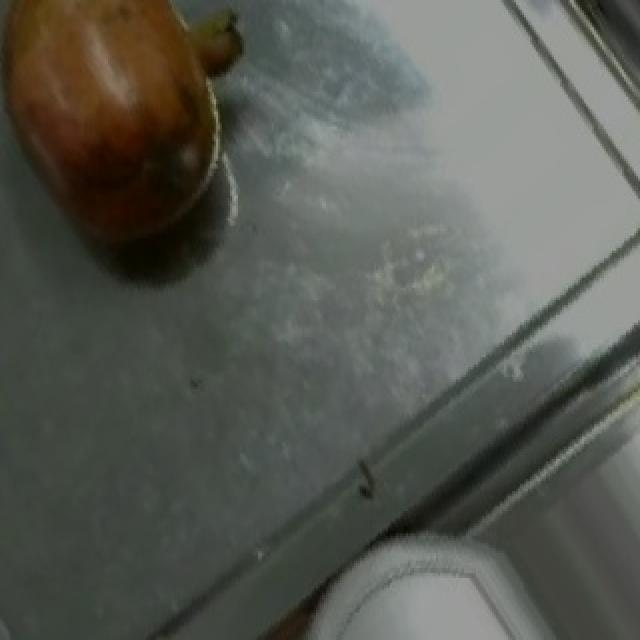fruit: (0, 0, 250, 273), (314, 545, 546, 640)
